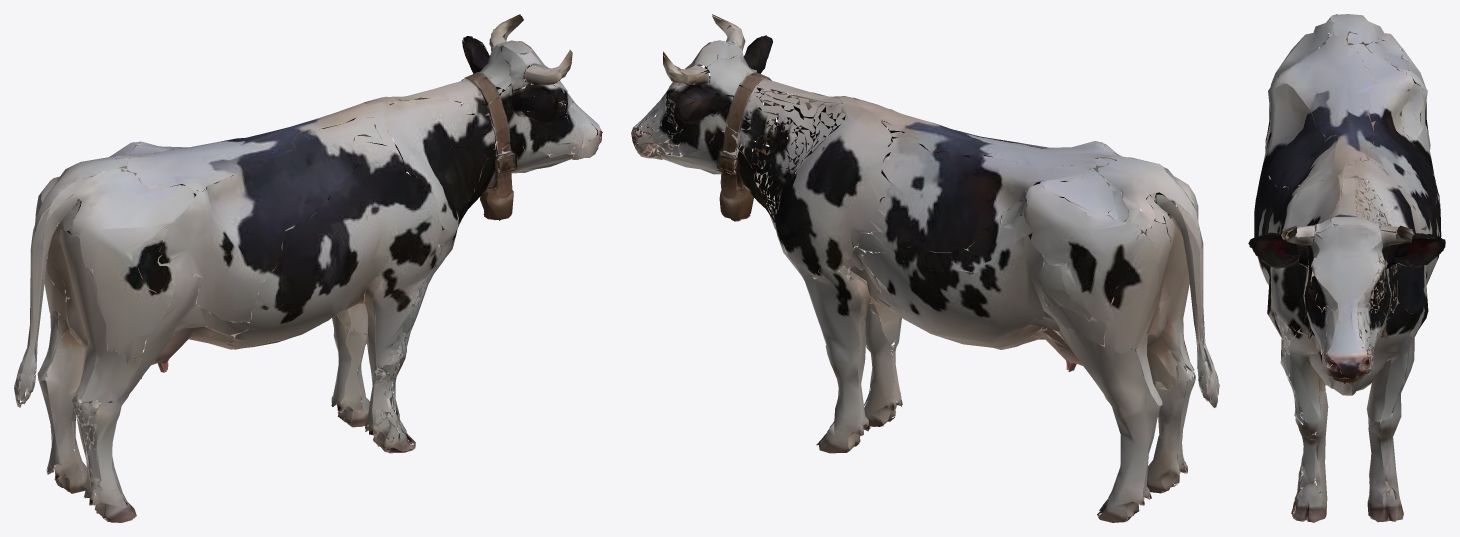
The model's file is obs_cow.glb.
3 views of the same model, side by side, from view 1: azimuth 30°, elevation 25°; view 2: azimuth 150°, elevation 25°; view 3: azimuth 270°, elevation 25° (orthographic). The views are drawn at different scales.
Visible parts, largest first — view 1: material; view 2: material; view 3: material.
Boxes of the visible parts, x1,y1,x2,y2 form: material: (14, 14, 602, 522); material: (631, 14, 1219, 522); material: (1248, 14, 1445, 522).
Bounding box in the file's own units: 1.17 × 0.692 × 0.3308.
Materials: 1 (1 with a texture image).
